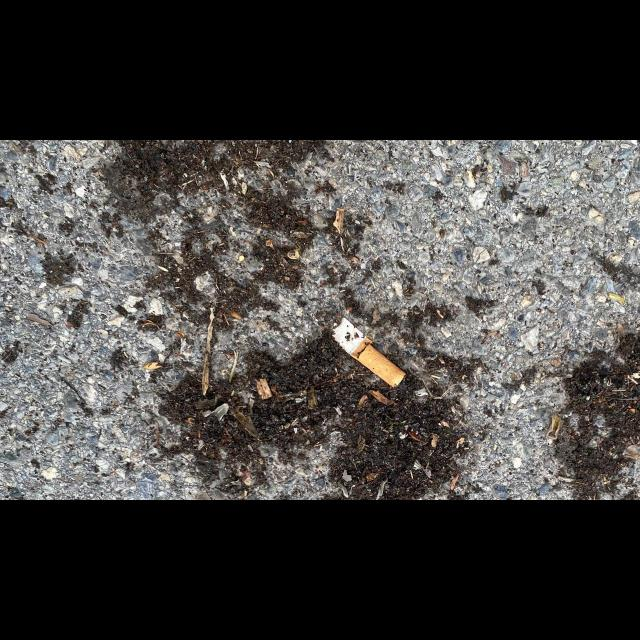cigarette: (316, 310, 406, 388)
